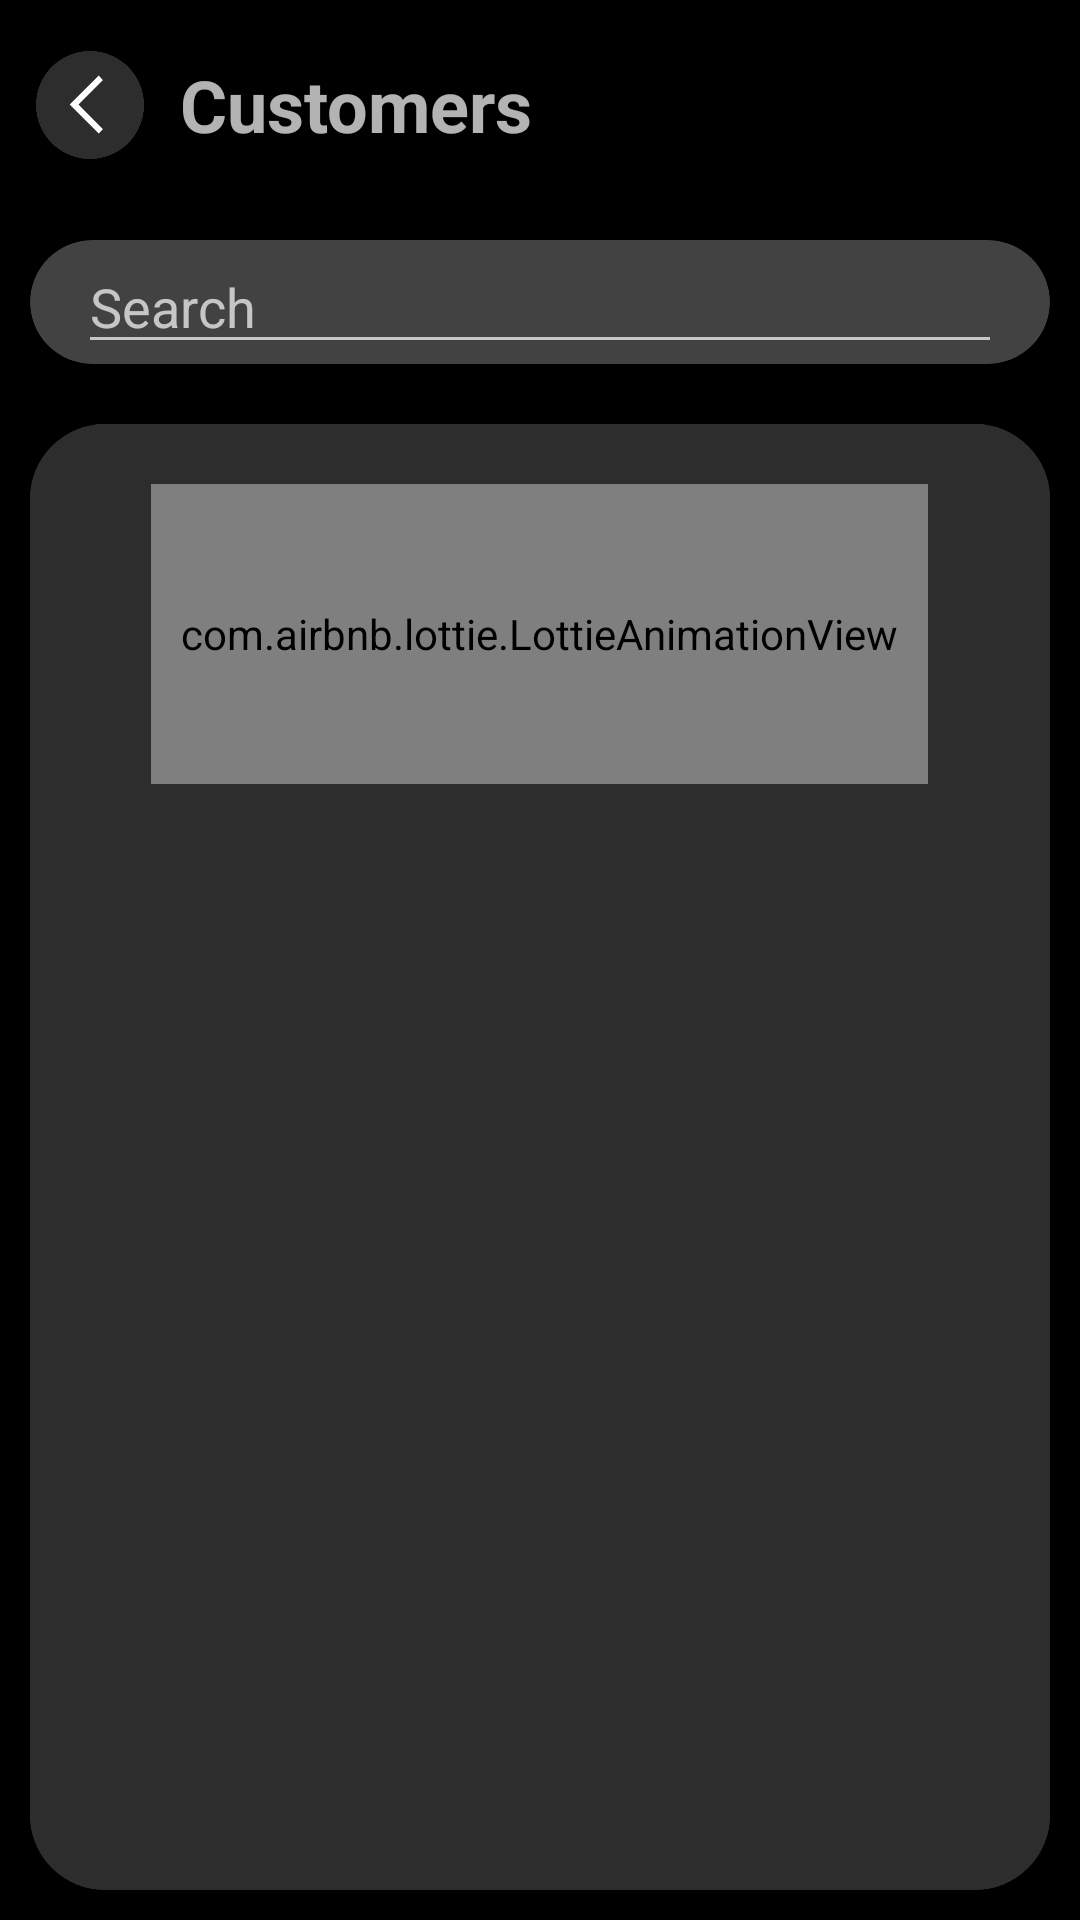

Screen size 1080×1920. Icon name, then its box in pixels as [left=x1, top=y1, right=x2, bottom=y2]:
back: [left=36, top=51, right=144, bottom=159]
